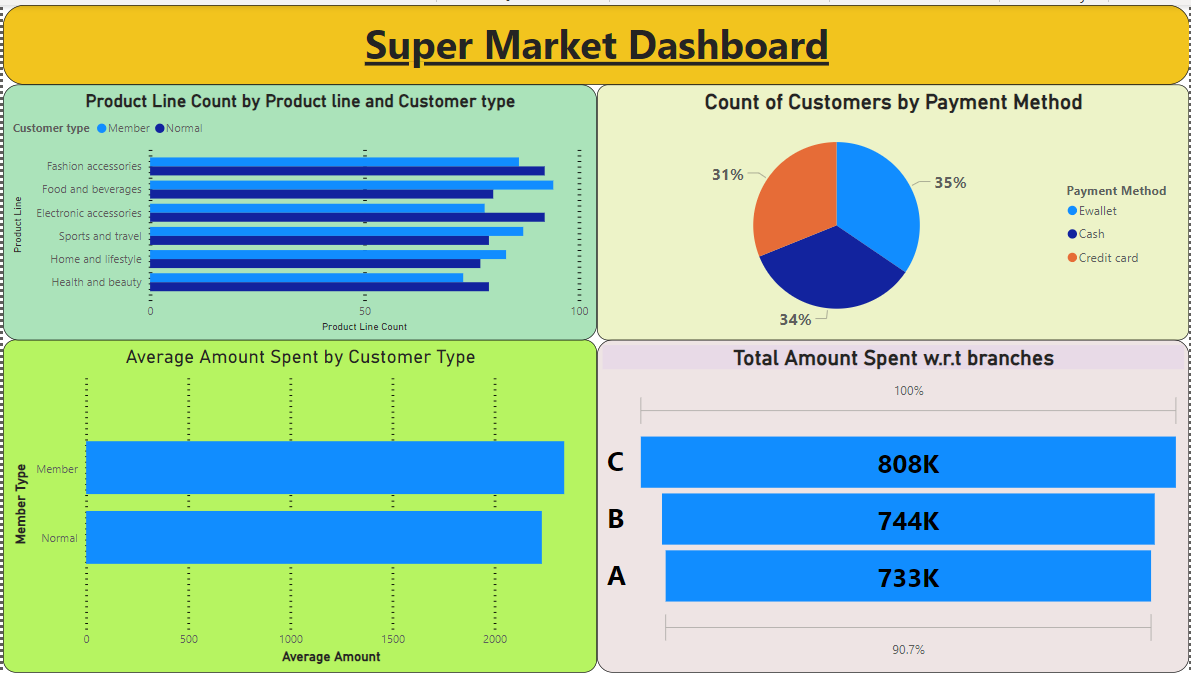

What the dashboard file says about the page in this screenshot:
{"tool":"powerbi","page":{"name":"Super Market Dashboard","canvas":[1280,720],"ordinal":0},"visuals":[{"type":"barChart","title":"Average Amount Spent by Customer Type","fields":{"Category":["Amount Spent By Customer Type.Customer type"],"Y":["Sum(Amount Spent By Customer Type.Average Amount Spent)"]},"box":[0,360.8,640.7,359.2],"z":0},{"type":"funnel","title":"Total Amount Spent w.r.t branches ","fields":{"Category":["Total Amount Spent (Branched).Branch"],"Y":["Sum(Total Amount Spent (Branched).Total Amount Spent w.r.t branches)"]},"box":[640.6,360.9,638.7,359.1],"z":1},{"type":"pieChart","title":"Count of Customers by Payment Method","fields":{"Category":["Payment Method Table.Payment"],"Y":["Sum(Payment Method Table.Count of Customers)"]},"box":[640.6,85,638.7,275.9],"z":2},{"type":"textbox","box":[0,0,1279.8,85.8],"z":3},{"type":"clusteredBarChart","title":"Product Line Count by Product line and Customer type","fields":{"Category":["Product Line Table.Product line"],"Series":["Product Line Table.Customer type"],"Y":["Sum(Product Line Table.Product Line Count)"]},"box":[0,85,640.6,275.9],"z":4}]}

Visuals, with their boxes in screenshot pixels (x1, y1, x2, y2), scaled from the page's 1280x720 canvas onto the 1191x673 screenshot:
"Average Amount Spent by Customer Type" barChart: Rect(0, 337, 596, 672)
"Total Amount Spent w.r.t branches " funnel: Rect(596, 337, 1190, 672)
"Count of Customers by Payment Method" pieChart: Rect(596, 79, 1190, 337)
textbox: Rect(0, 0, 1190, 80)
"Product Line Count by Product line and Customer type" clusteredBarChart: Rect(0, 79, 596, 337)
